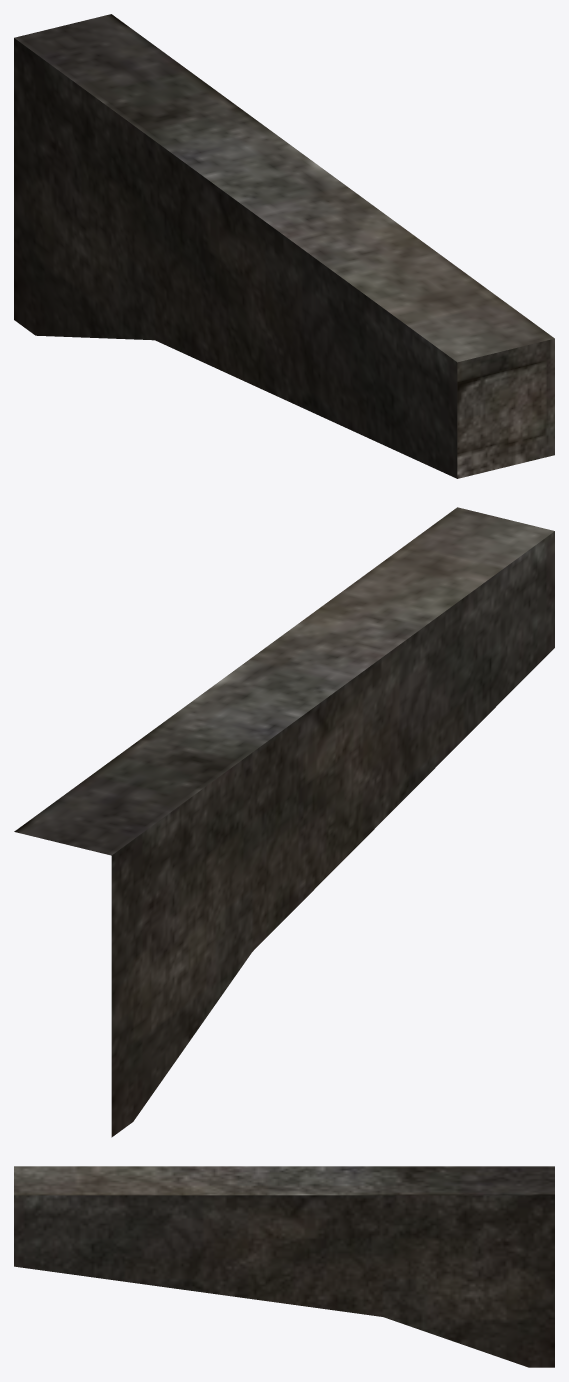
3 views of the same model, one above another, from view 1: azimuth 30°, elevation 25°; view 2: azimuth 150°, elevation 25°; view 3: azimuth 270°, elevation 25° (orthographic). The views are drawn at different scales.
Visible parts, largest first — view 1: model_Object46; view 2: model_Object46; view 3: model_Object46.
Part boxes in pixels (x1,y1,x2,y2): model_Object46: (14,14,554,478); model_Object46: (14,507,554,1137); model_Object46: (14,1166,554,1367).
Size of the model in its own units: 0.4273 by 1.18 by 3.36.
Materials: 1 (1 with a texture image).
